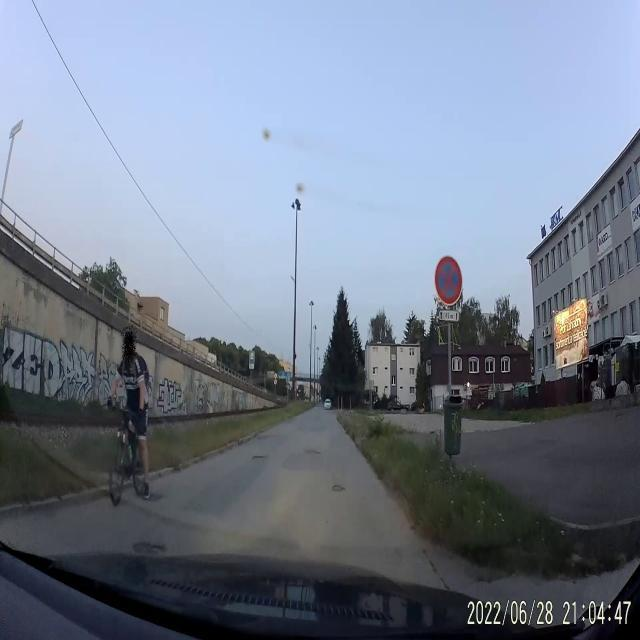Manhole: (140, 491, 164, 503)
Pothole: (132, 538, 165, 556), (331, 479, 345, 499), (304, 448, 322, 460), (249, 453, 270, 463)
